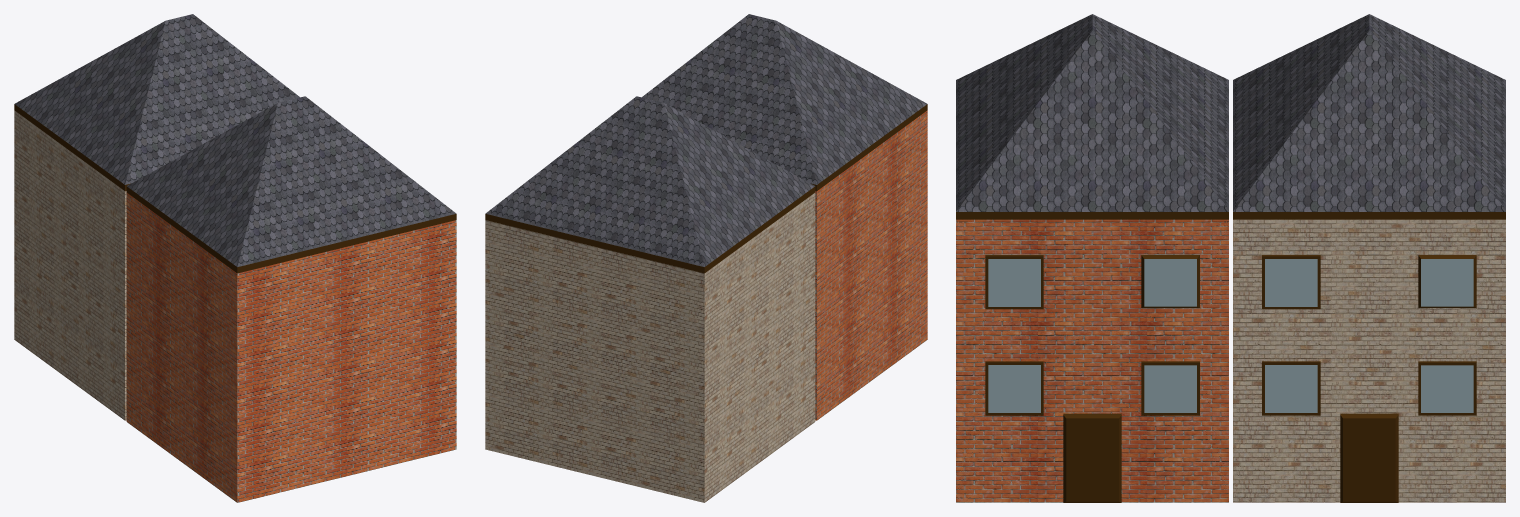
File: Building.fbx
3 views of the same model, side by side, from view 1: azimuth 30°, elevation 25°; view 2: azimuth 150°, elevation 25°; view 3: azimuth 270°, elevation 25° (orthographic). The views are drawn at different scales.
Visible parts, largest first — view 1: polySurface1 (×2); view 2: polySurface1 (×2); view 3: polySurface5 (×2), polySurface1 (×2), pCube11 (×2), pCube6 (×2), pCube8 (×2), pCube10 (×2), pCube9 (×2).
Boxes of the visible parts, box(x1,y1,x2,y2) form: polySurface1 (×2): box(14, 14, 456, 502); polySurface1 (×2): box(485, 14, 927, 502); polySurface5 (×2): box(956, 219, 1505, 502); polySurface1 (×2): box(956, 14, 1505, 219); pCube11 (×2): box(1063, 413, 1398, 502); pCube6 (×2): box(985, 255, 1320, 309); pCube8 (×2): box(985, 361, 1320, 415); pCube10 (×2): box(1141, 361, 1476, 415); pCube9 (×2): box(1141, 255, 1476, 307).
Size of the model in its own units: 0.0813 by 0.1172 by 0.141.
Materials: 6 (3 with a texture image).
